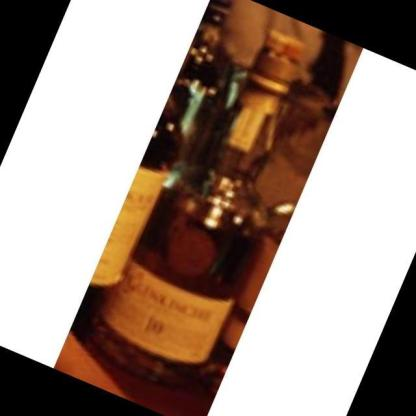Can: (92, 31, 305, 390)
